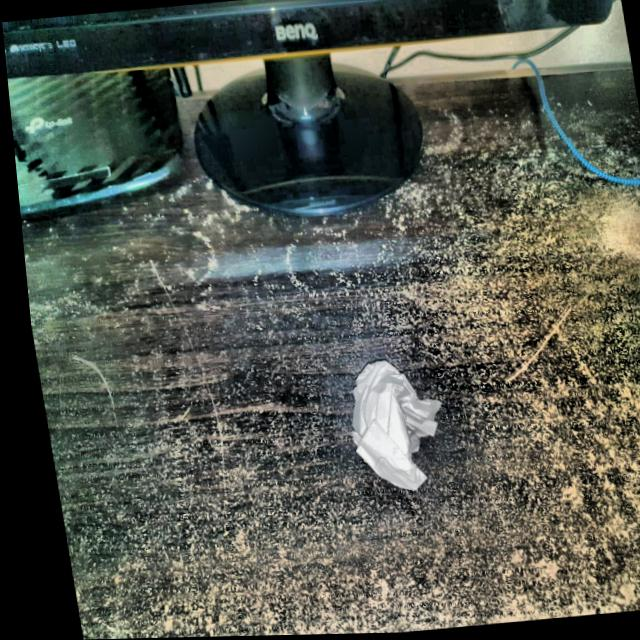Paper: (333, 356, 447, 505)
